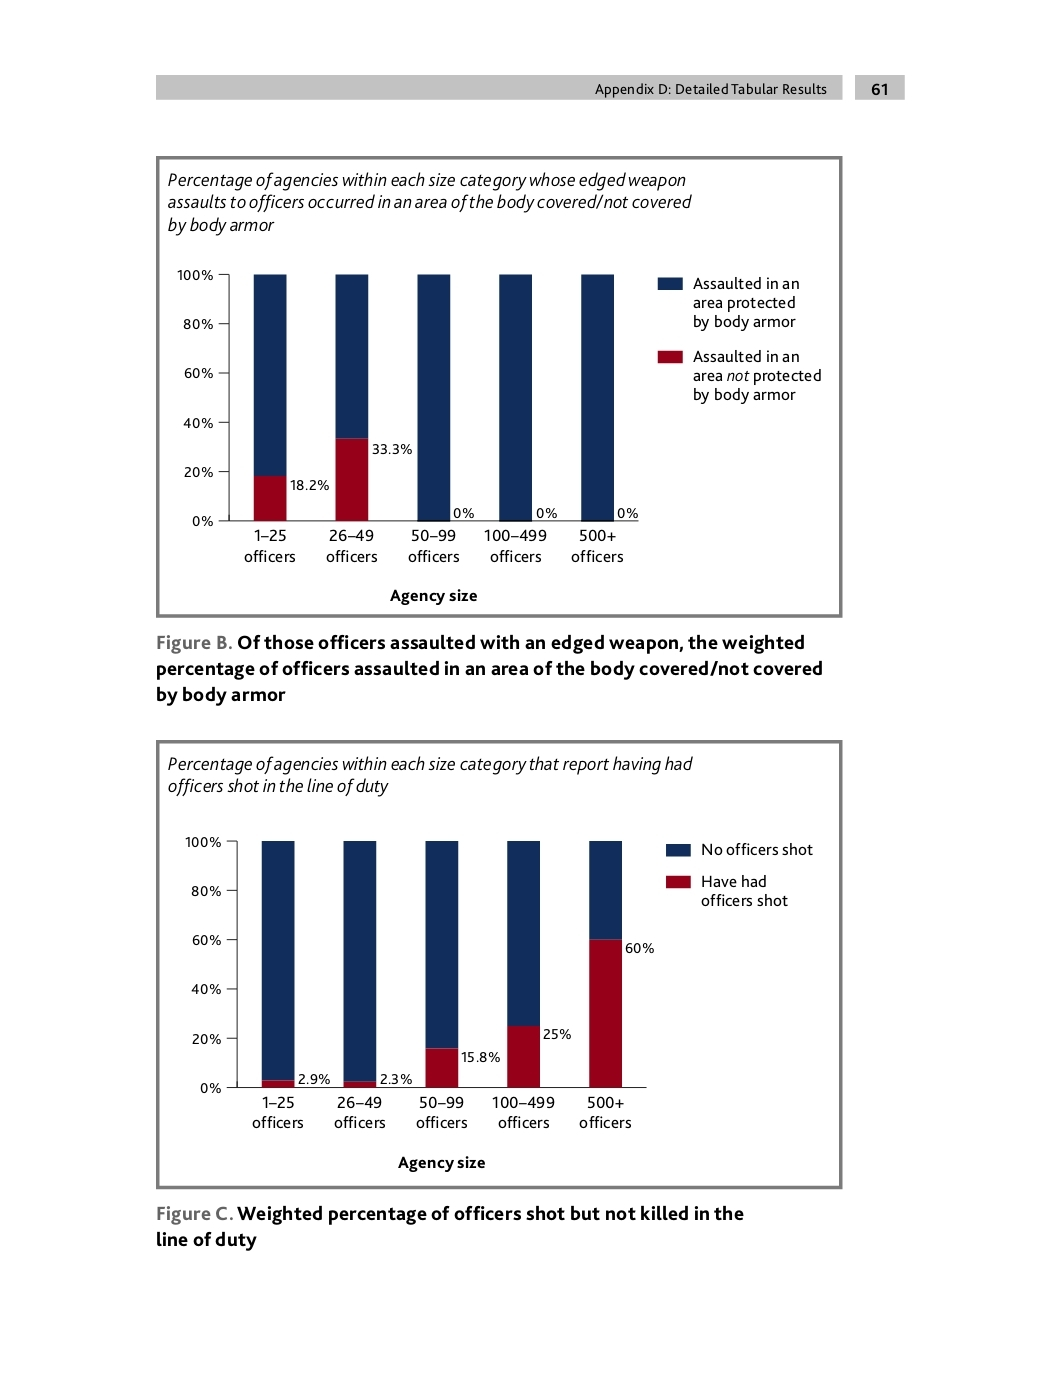figure: (156, 155, 841, 619), (156, 739, 841, 1190)
